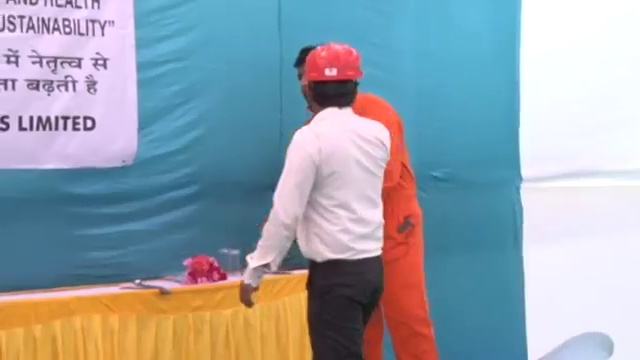helmet: (301, 41, 362, 81)
helmet_on: (300, 41, 363, 113)
person: (239, 41, 392, 360), (296, 44, 441, 359)
